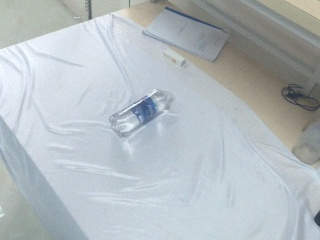bottle: (109, 89, 175, 138), (292, 108, 320, 166)
